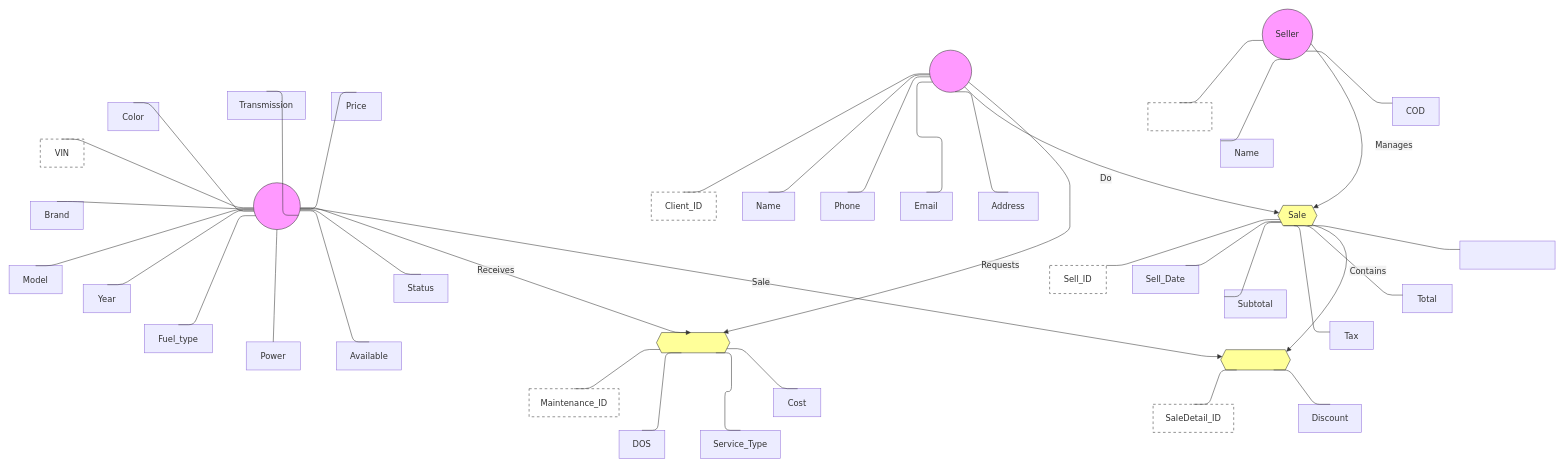
This 1564x467 diagram has some shape labels left out. Here are the shapes that lost their labels. From the top down, the centre of each, then its label:
At pixel 950 71: "Client".
At pixel 1179 116: "Seller_ID".
At pixel 276 206: "Vehicle".
At pixel 1507 254: "Payment_Method".
At pixel 693 342: "Maintenance".
At pixel 1255 359: "Sale_Detail".
